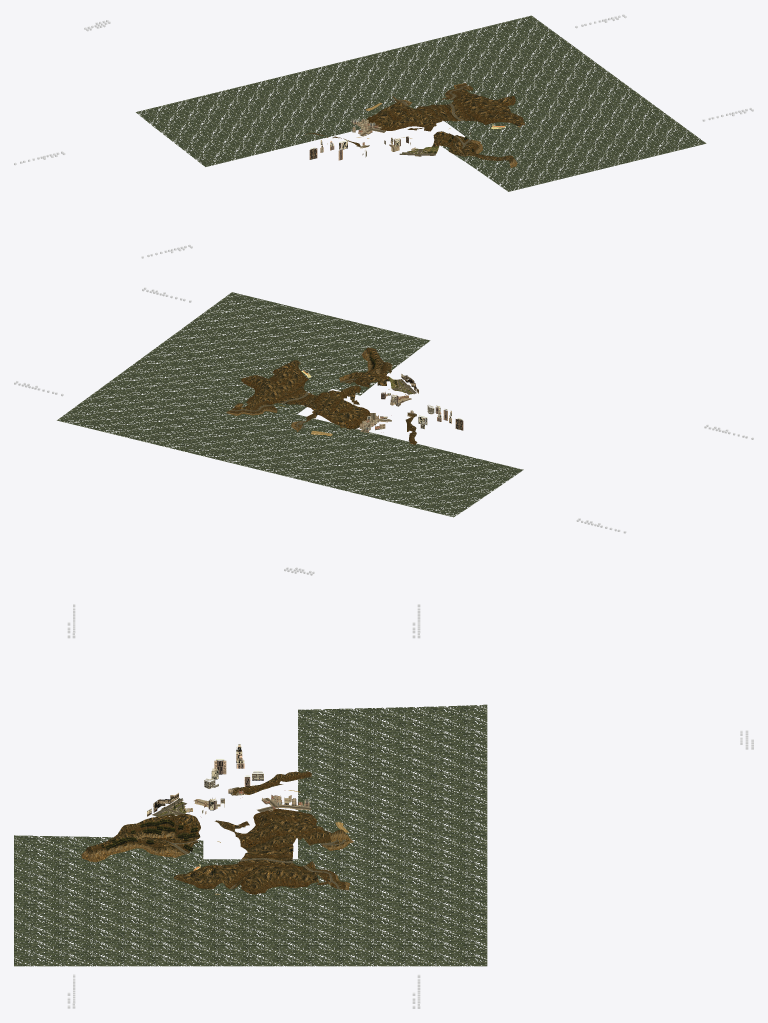
File: track-B2_C4_V1_env.glb
3 renders of one model, top to bottom at view 1: azimuth 30°, elevation 25°; view 2: azimuth 150°, elevation 25°; view 3: azimuth 270°, elevation 25°, orthographic. The views are drawn at different scales.
Visible parts, largest first — view 1: B2_C4_V1_env; view 2: B2_C4_V1_env; view 3: B2_C4_V1_env.
Boxes of the visible parts, <box> form: B2_C4_V1_env: <box>14,14,753,258</box>; B2_C4_V1_env: <box>14,287,753,575</box>; B2_C4_V1_env: <box>14,604,753,1008</box>.
Size of the model in its own units: 7593 by 244 by 5898.
11 materials, 10 textured.
